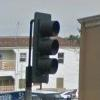Traffic light: (22, 9, 63, 85)
